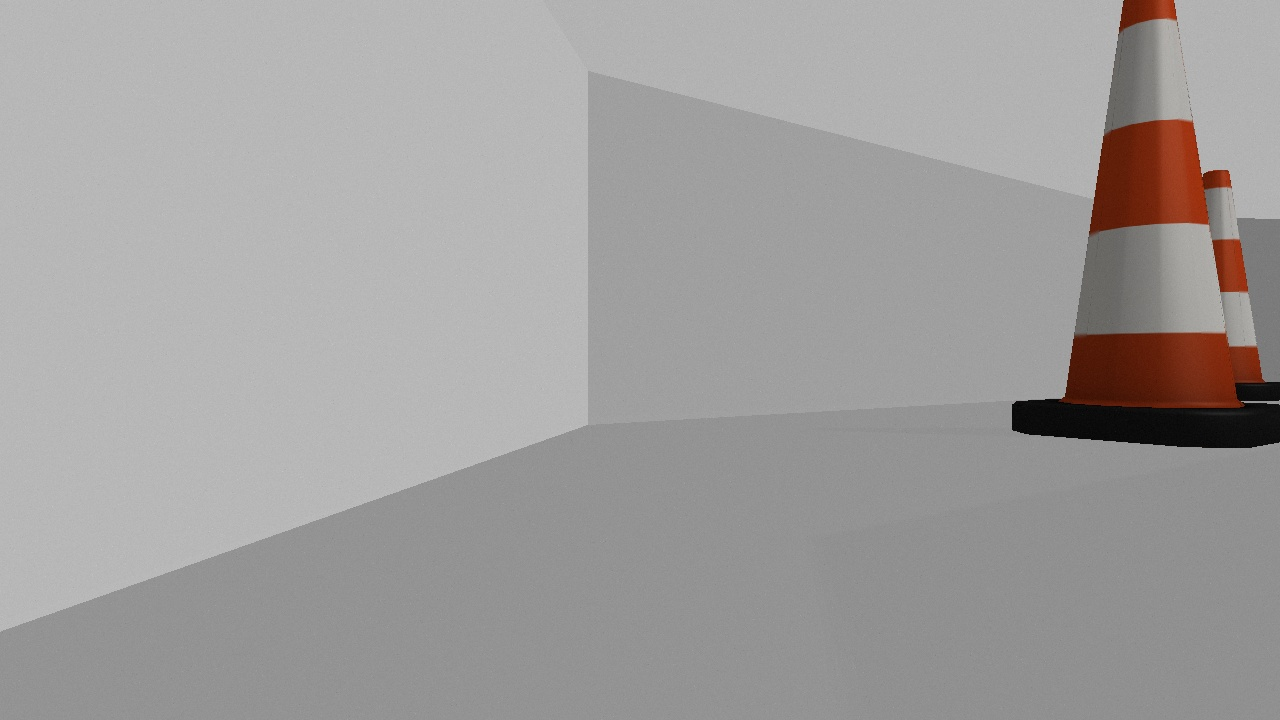barricade: (1013, 5, 1280, 450), (1167, 167, 1280, 404)
